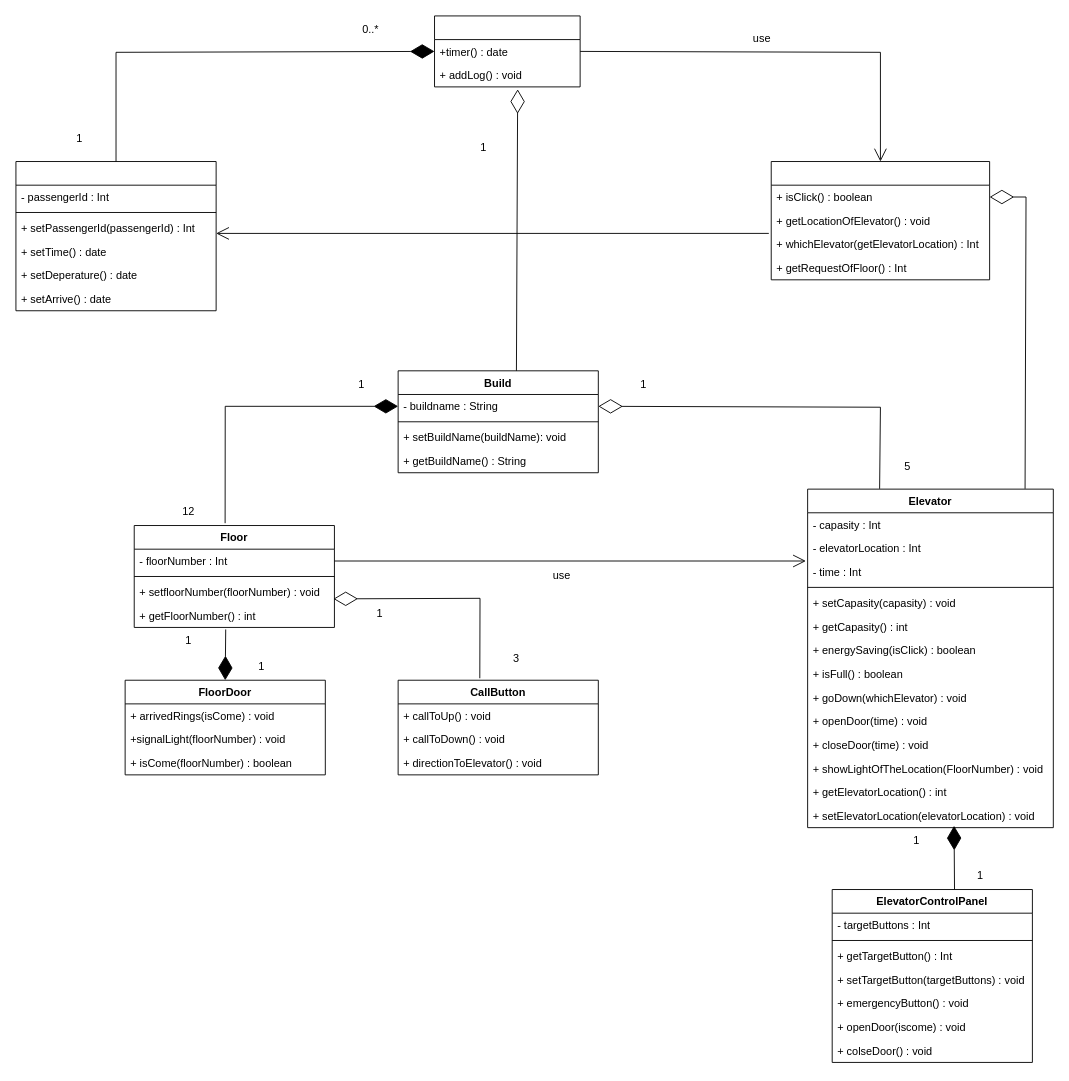
Image size: 1069x1081. Some labels were removed from this diagram. Here are the shapes that lost their labels. From the top down, the box of each, then its label:
(434, 15, 580, 87): ElevatorSimulation
(15, 161, 216, 311): RandomPassengerCreator
(770, 161, 990, 280): ElevatorProgrammer
